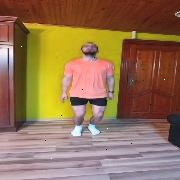high_jumps: (47, 39, 123, 140)
